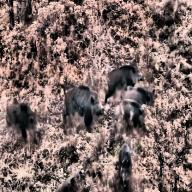boar: (101, 58, 146, 103), (65, 82, 103, 131)
